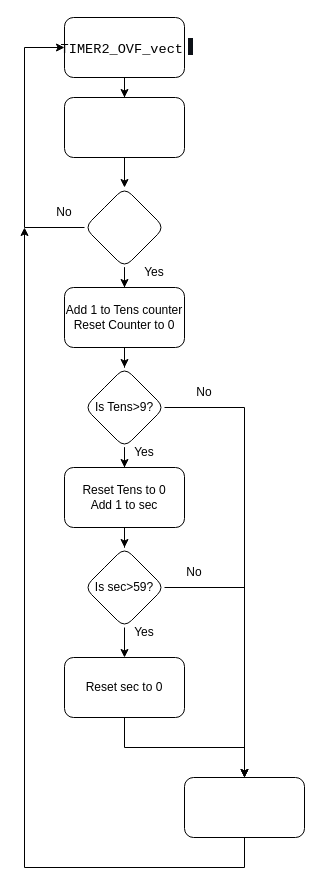
Some shapes in this 322 by 893 pixel diagram are drawn without their labels. Here are the shapes that lost their labels. From the top down, the centre of each, then its label:
At point 124,127: "Add 1 to the cicle counter".
At point 124,227: "Counter>5?".
At point 244,807: "Update the display".
